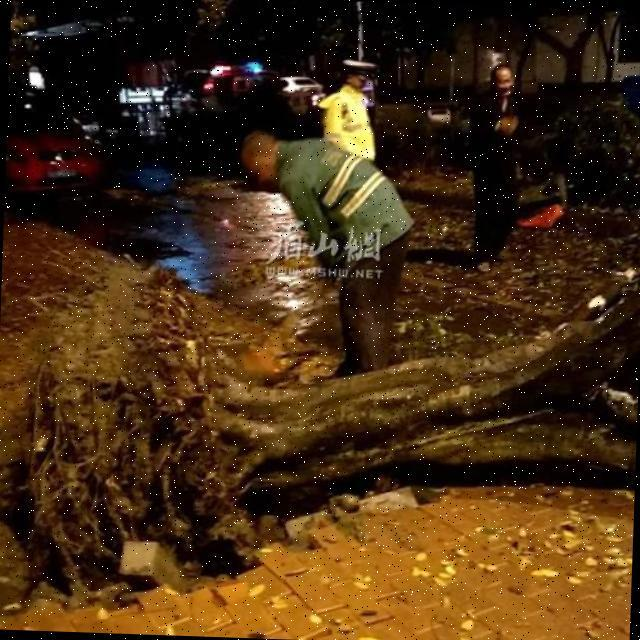fallen_object: (6, 250, 640, 562)
